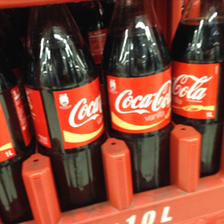soda: (23, 3, 106, 212), (102, 2, 172, 194), (170, 1, 220, 177)
